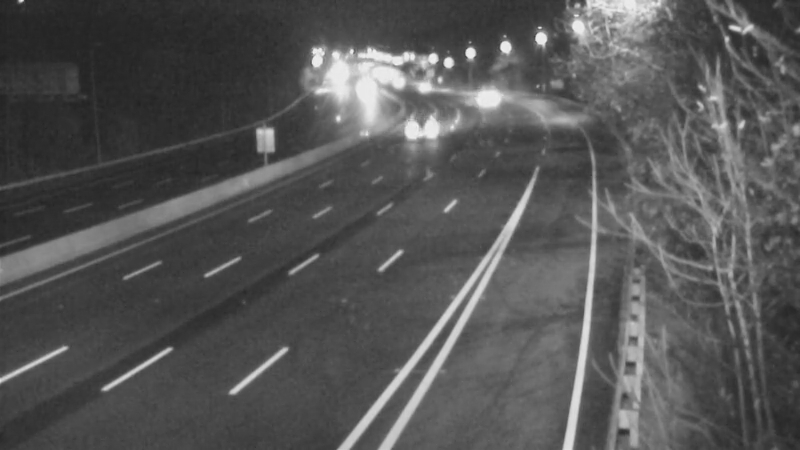vehicle: (396, 62, 446, 112), (456, 75, 506, 125), (401, 98, 451, 148), (343, 74, 393, 124)
